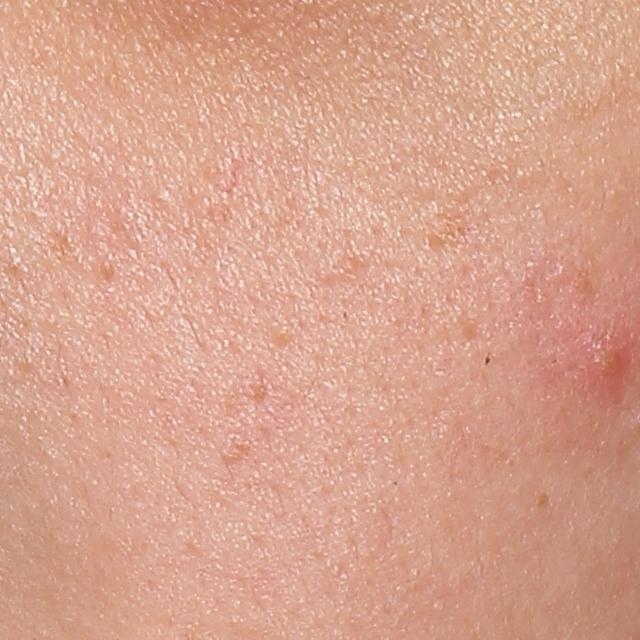atrophic_scar: (460, 322, 489, 350)
papule: (586, 337, 634, 384)
